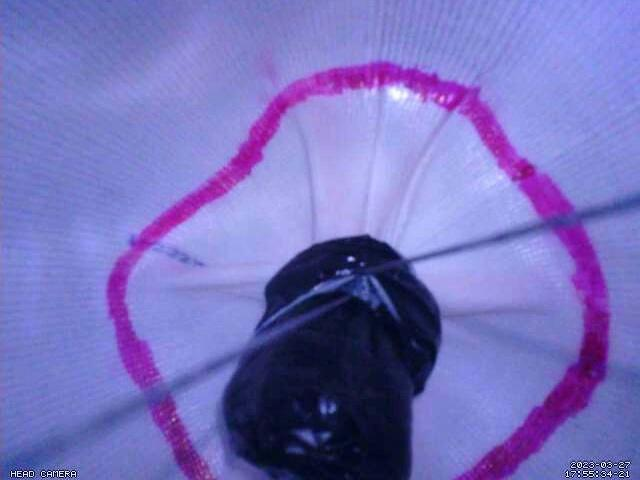red-circle: (107, 59, 611, 480)
